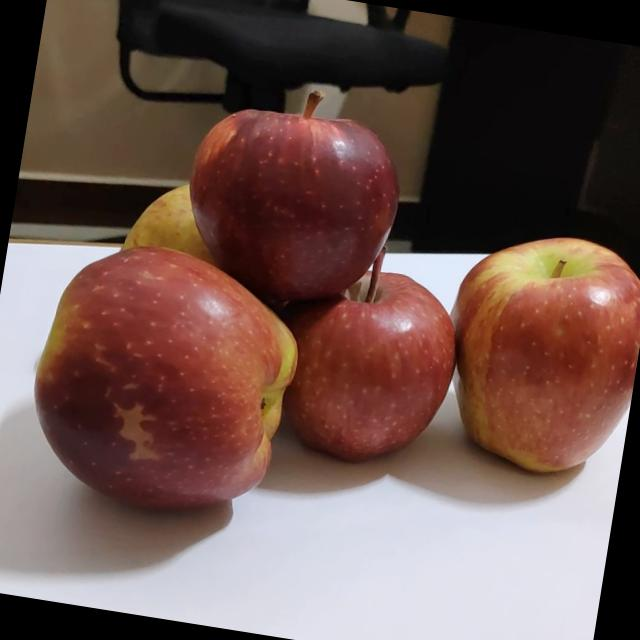apple: (17, 224, 310, 522), (170, 72, 418, 318), (430, 214, 640, 493), (266, 230, 472, 479), (107, 162, 254, 296)
